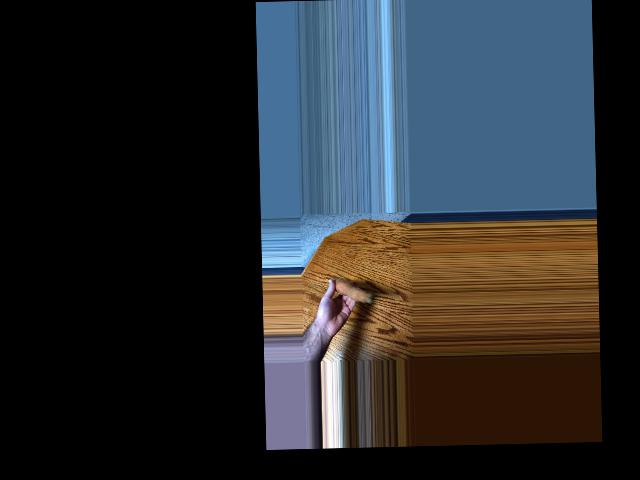sweet_potato: (330, 277, 373, 306)
